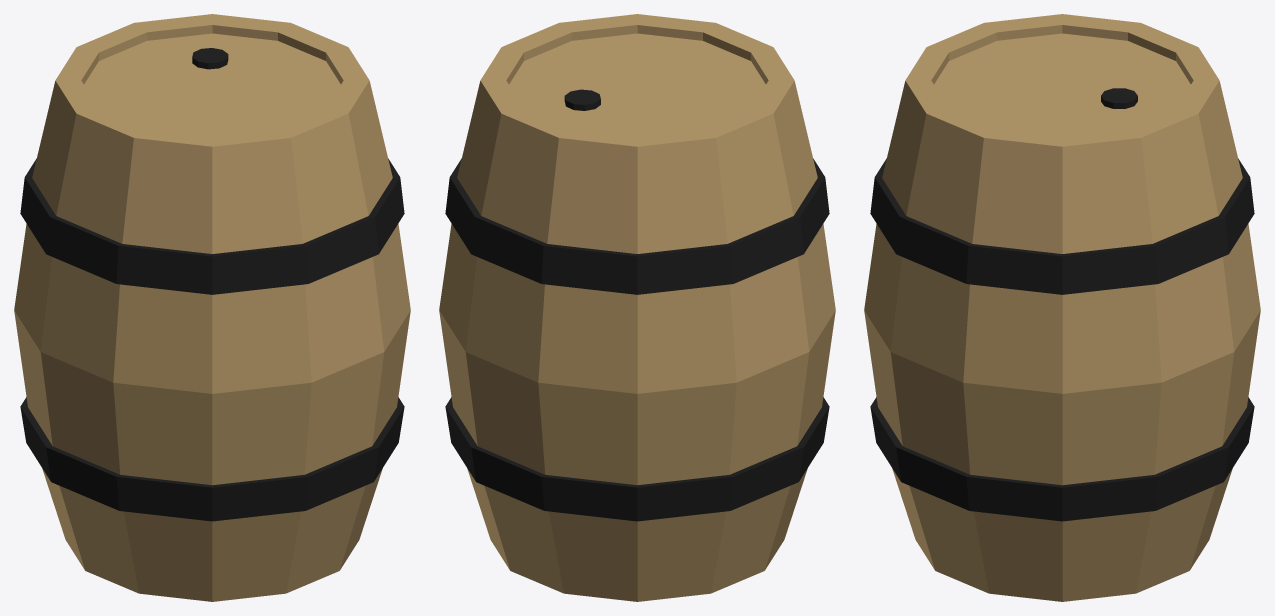
Rendered from Barrel.fbx.
The picture shows the model from 3 angles, left to right: view 1: azimuth 30°, elevation 25°; view 2: azimuth 150°, elevation 25°; view 3: azimuth 270°, elevation 25°; orthographic projection.
Parts seen in each view (by area): view 1: Barrel; view 2: Barrel; view 3: Barrel.
Boxes of the visible parts, x1,y1,x2,y2 form: Barrel: [14, 14, 410, 601]; Barrel: [439, 14, 835, 601]; Barrel: [864, 14, 1260, 601].
Bounding box in the file's own units: 161 × 206 × 161.
